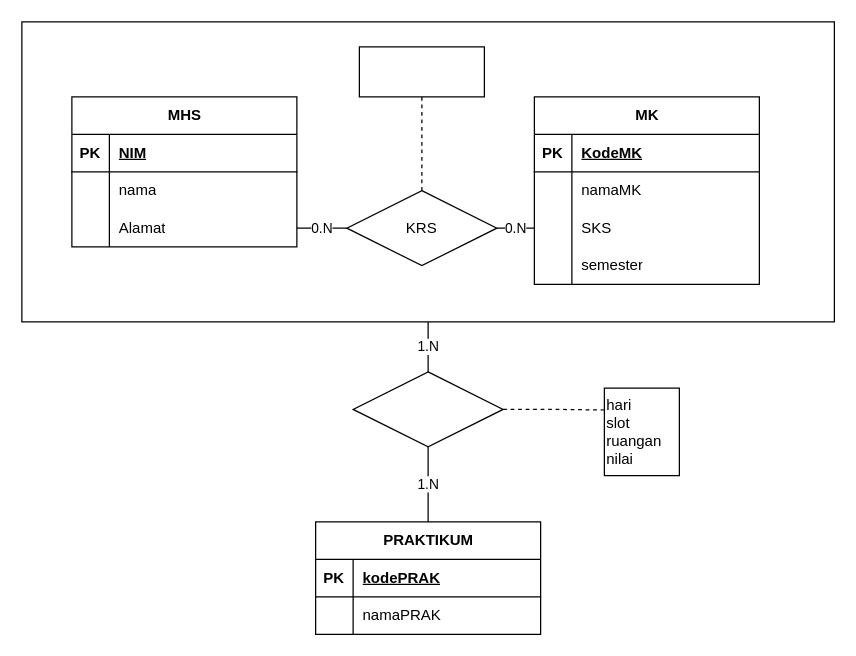
The diagram is 856 pixels wide and 656 high, and some of its shapes have lost their labels. Here are the shapes that lost their labels. From the top down, the box of each, then its label:
(358, 46, 484, 97): NILAI
(352, 371, 503, 447): DAFTAR
